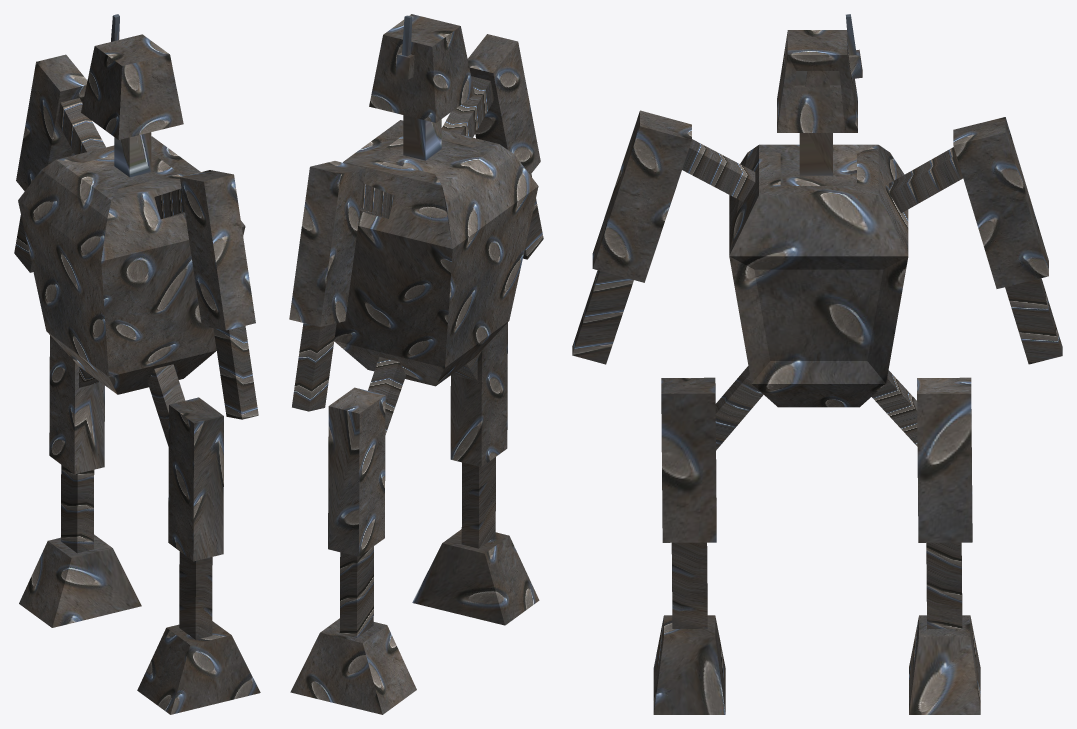
Rendered from RobotLowPoly.obj.
3 renders of one model, left to right at view 1: azimuth 30°, elevation 25°; view 2: azimuth 150°, elevation 25°; view 3: azimuth 270°, elevation 25°, orthographic. The views are drawn at different scales.
Bounding box in the file's own units: 2 × 8.27 × 5.48.
1 material, 1 textured.
